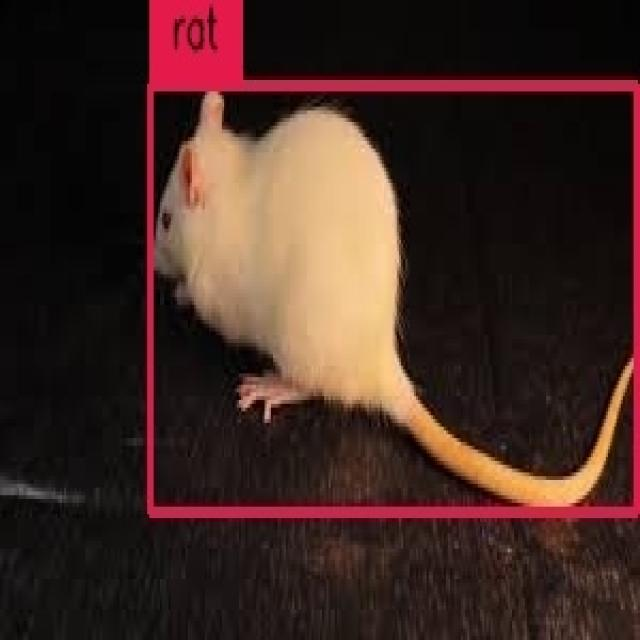rat: (150, 86, 637, 512)
